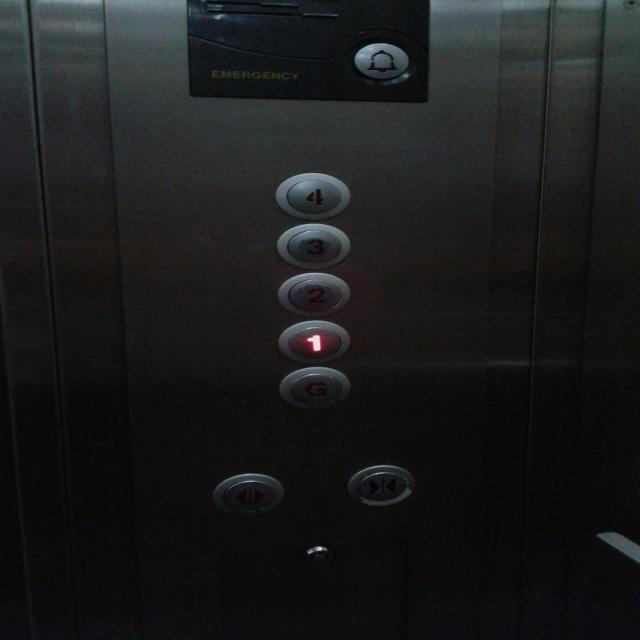1: (278, 318, 352, 364)
2: (274, 271, 352, 317)
3: (273, 224, 359, 270)
4: (272, 172, 356, 220)
G: (278, 364, 356, 410)
alarm: (349, 40, 415, 84)
close: (346, 464, 416, 508)
open: (212, 472, 286, 516)
